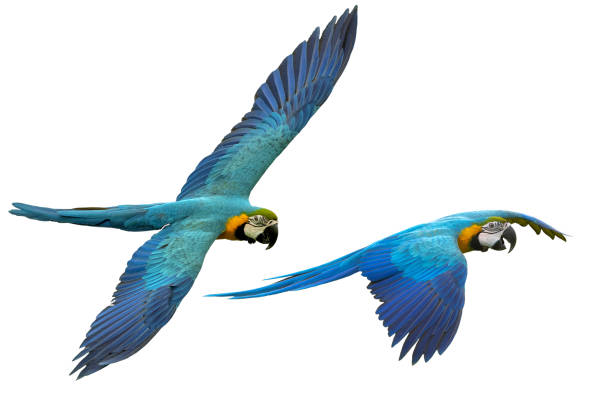Bird: (4, 4, 360, 381), (203, 203, 573, 369)
